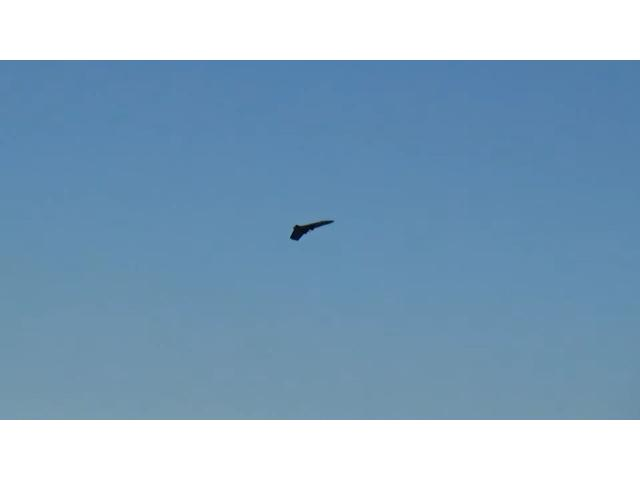Anti-Drone: (279, 212, 347, 252)
